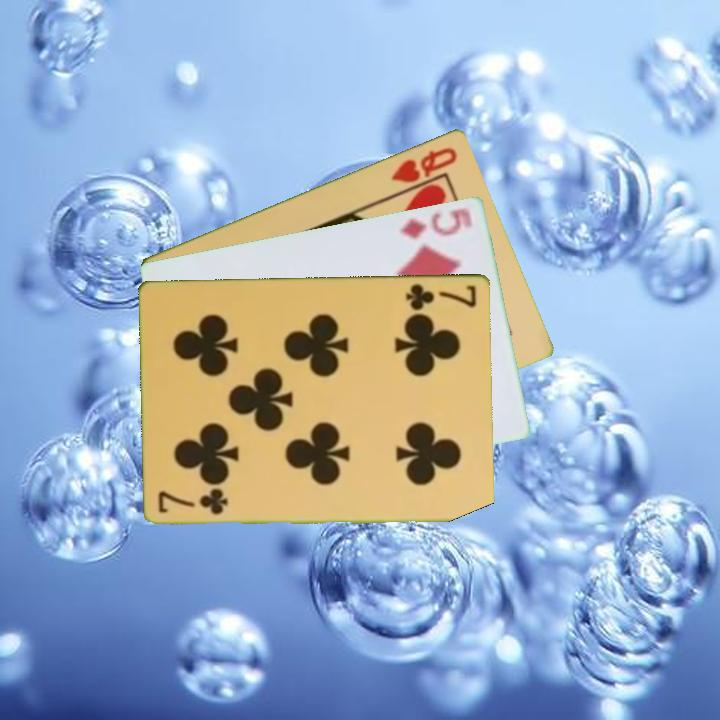5d: (396, 204, 476, 241)
7c: (403, 279, 479, 313), (155, 488, 231, 517)
Qh: (387, 143, 461, 185)
